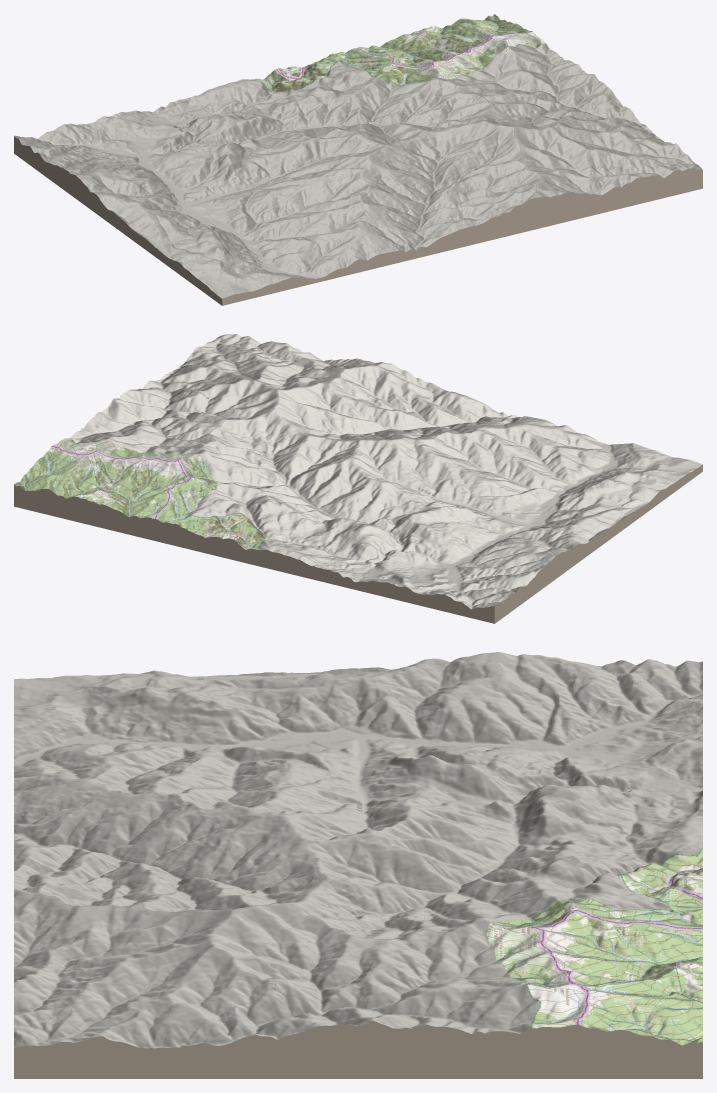
The picture shows the model from 3 angles, top to bottom: view 1: azimuth 30°, elevation 25°; view 2: azimuth 150°, elevation 25°; view 3: azimuth 270°, elevation 25°; orthographic projection. The views are drawn at different scales.
Parts seen in each view (by area): view 1: BV50-G3 Muntele Clăbucetul; view 2: BV50-G3 Muntele Clăbucetul; view 3: BV50-G3 Muntele Clăbucetul.
Boxes of the visible parts, x1,y1,x2,y2 form: BV50-G3 Muntele Clăbucetul: (14, 14, 702, 305); BV50-G3 Muntele Clăbucetul: (14, 334, 702, 623); BV50-G3 Muntele Clăbucetul: (14, 652, 702, 1078).
Bounding box in the file's own units: 20000 × 1698 × 15000.
Materials: 3 (1 with a texture image).
